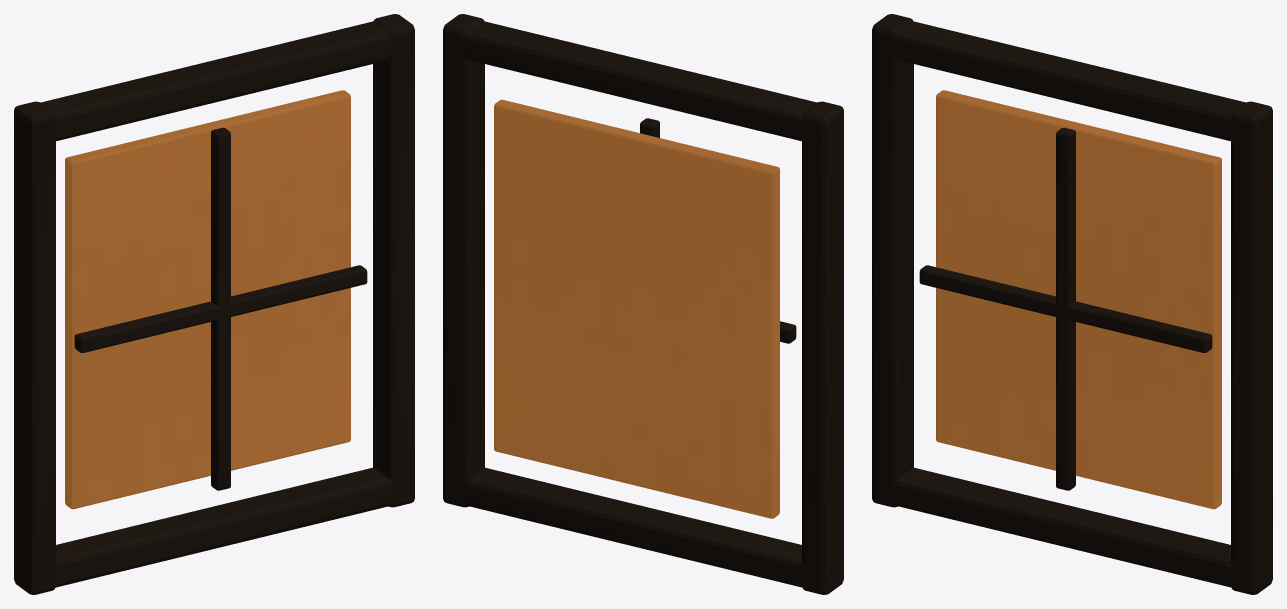
Rendered from prop_town_window.glb.
3 renders of one model, left to right at view 1: azimuth 30°, elevation 25°; view 2: azimuth 150°, elevation 25°; view 3: azimuth 330°, elevation 25°, orthographic.
Parts seen in each view (by area): view 1: glass, oak; view 2: glass, oak; view 3: glass, oak.
Part boxes in pixels (x1=…): glass: x1=65, y1=90, x2=350, y2=509; oak: x1=14, y1=14, x2=414, y2=594; glass: x1=494, y1=99, x2=779, y2=518; oak: x1=443, y1=14, x2=843, y2=594; glass: x1=936, y1=90, x2=1221, y2=509; oak: x1=872, y1=14, x2=1272, y2=594.
Bounding box in the file's own units: 1.72 × 2.04 × 0.16.
Materials: 2 (2 with a texture image).
